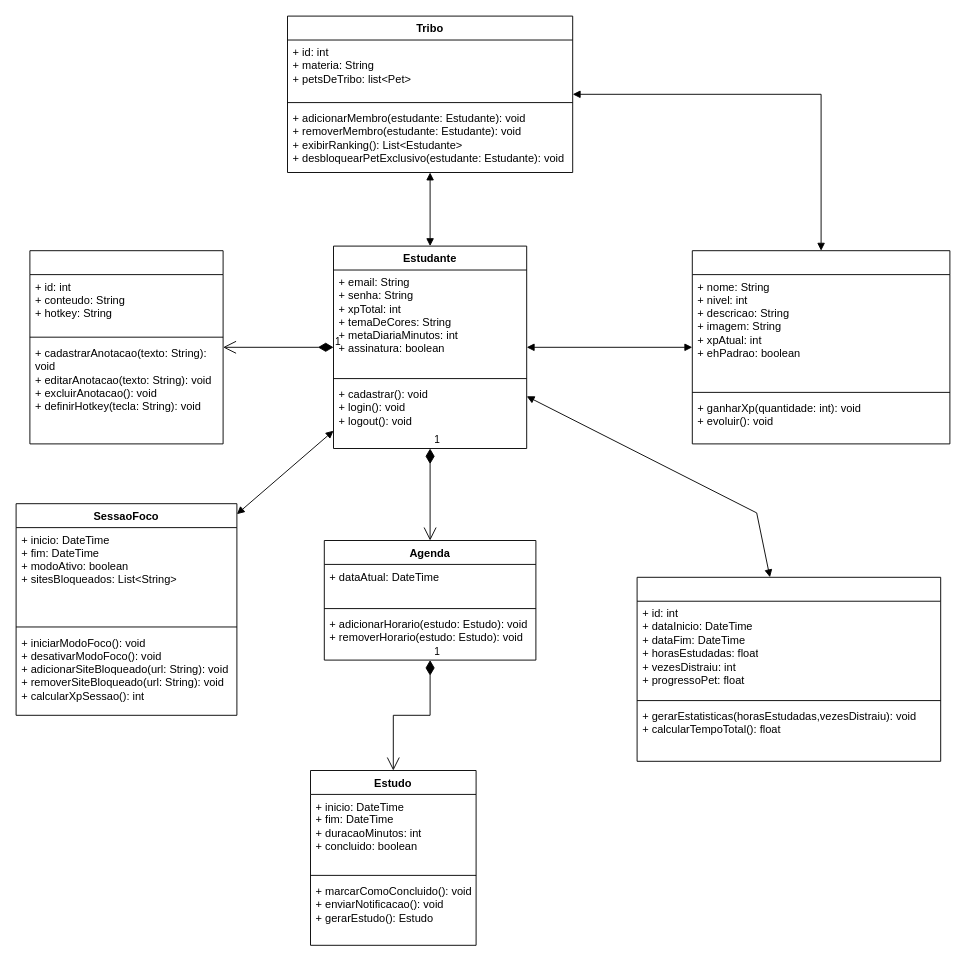
Some shapes in this 966 by 964 pixel diagram are drawn without their labels. The shapes that lost their labels are listed below. From the top down, each one's box as (x1, y1, x2, y2) in pixels, then its label:
(29, 250, 223, 444): BlocoDeNotas
(691, 250, 950, 444): Pet
(636, 576, 941, 761): ResumoSemanal
